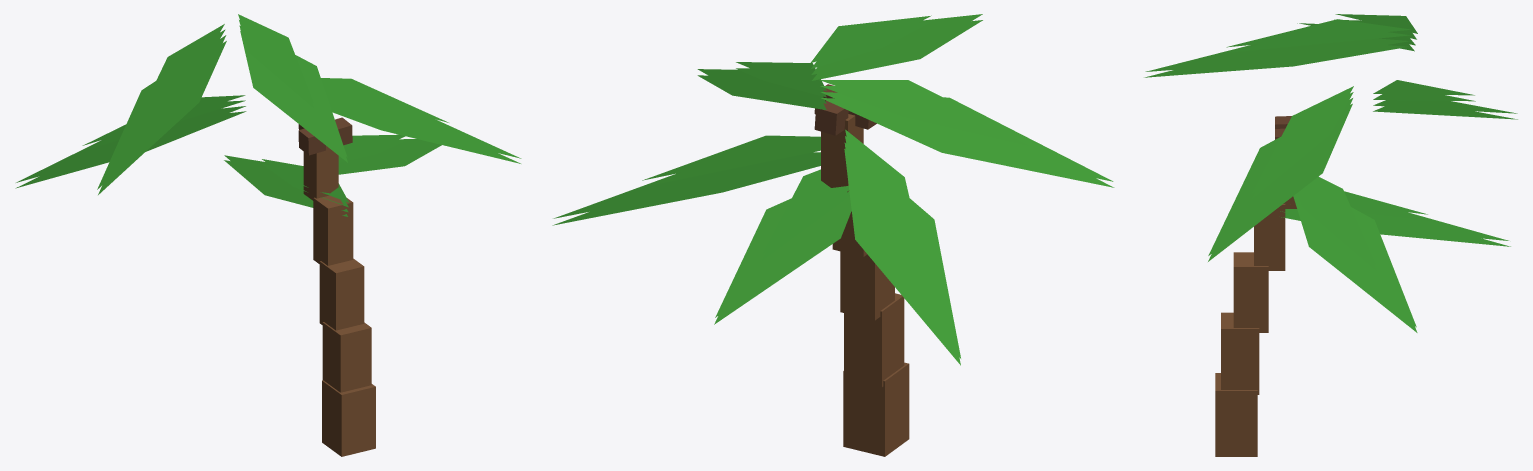
The model's file is palm.glb.
3 renders of one model, left to right at view 1: azimuth 30°, elevation 25°; view 2: azimuth 150°, elevation 25°; view 3: azimuth 270°, elevation 25°, orthographic. The views are drawn at different scales.
Visible parts, largest first — view 1: Palm_0_coco0.001; view 2: Palm_0_coco0.001; view 3: Palm_0_coco0.001.
Boxes of the visible parts, x1,y1,x2,y2 form: Palm_0_coco0.001: [15, 14, 521, 456]; Palm_0_coco0.001: [552, 14, 1114, 456]; Palm_0_coco0.001: [1144, 14, 1517, 456].
Bounding box in the file's own units: 2.48 × 2.22 × 1.87.
